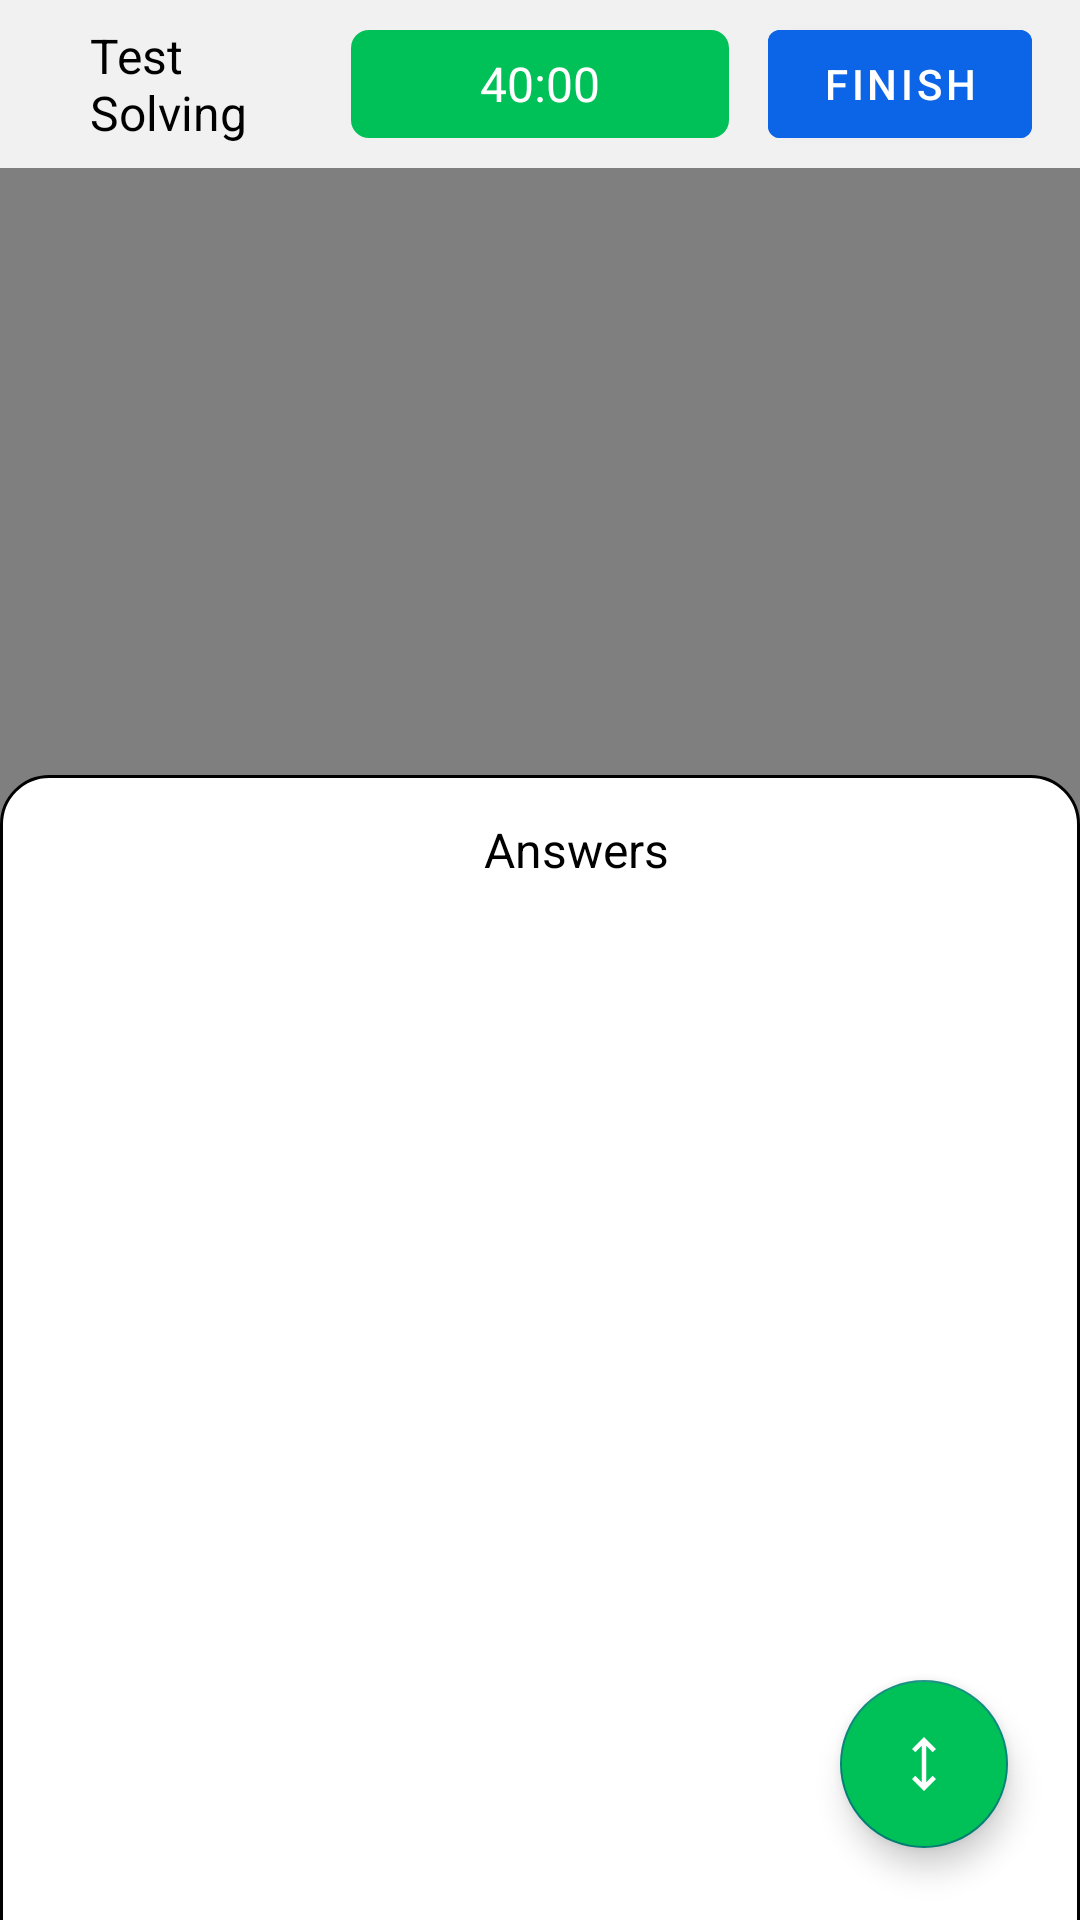

Locate icon controls on the screen. Image size 1080px×1920px, boxes as [x1=x1, y1=y1, x2=x2, y2=y2].
up down: [x1=840, y1=1680, x2=1008, y2=1848]
